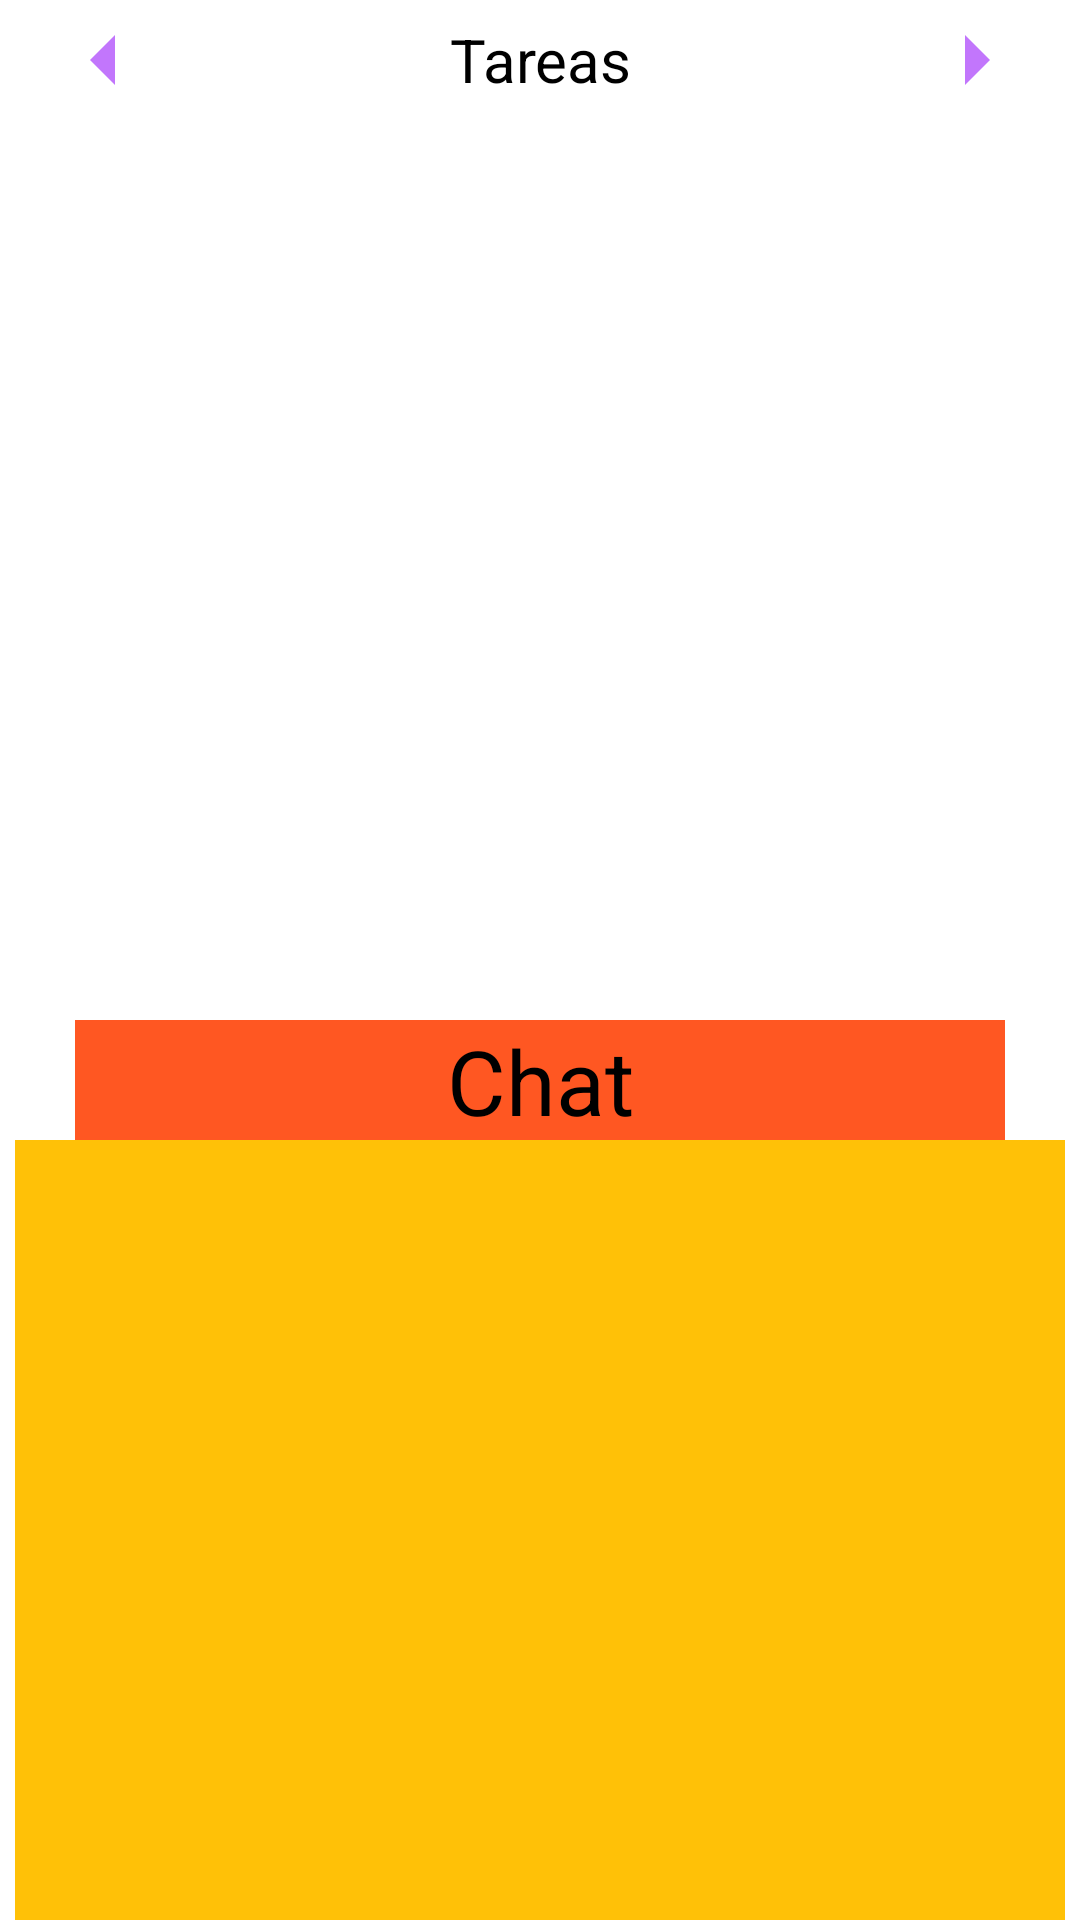

Where icons sit on this 1080x1920 app screen, as (x1, y1, x2, y2):
arrow left: (90, 35, 115, 85)
arrow right: (965, 35, 990, 85)
